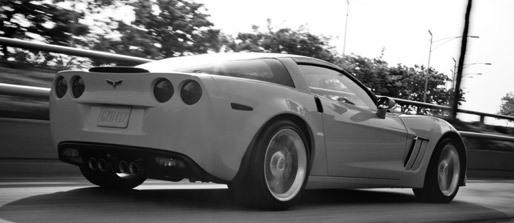car: (50, 50, 469, 207)
